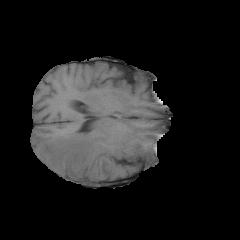glioma: (42, 131, 111, 180)
